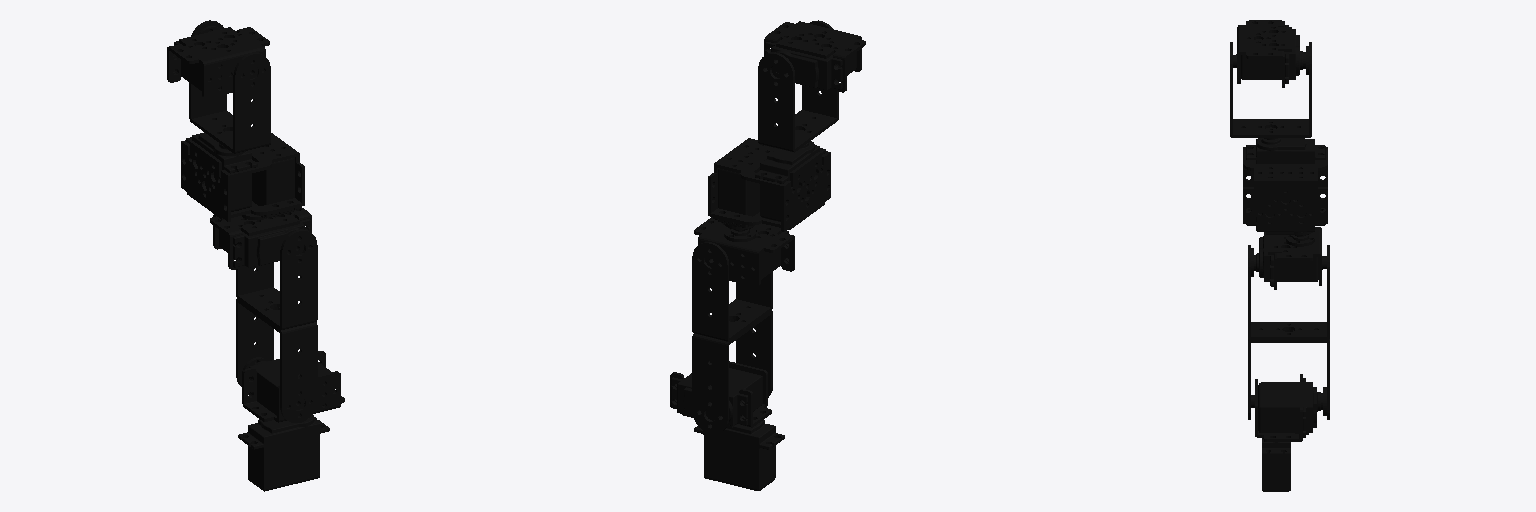
The robot description file, URDF, robot "robotic_arm_6_dof_description":
<?xml version="1.0" encoding="utf-8"?>
<!-- This URDF was automatically created by SolidWorks to URDF Exporter! Originally created by [author] ([email redacted]) 
     Commit Version: 1.6.0-4-g7f85cfe  Build Version: 1.6.7995.38578
     For more information, please see http://wiki.ros.org/sw_urdf_exporter -->
<robot
  name="robotic_arm_6_dof_description">
  
  <link name="world"/>
  <joint name="base_joint" type="fixed">
    <parent link="world"/>
    <child link="base_link"/>
    <origin rpy="0 0 0" xyz="0.0 0.0 0.17"/>
  </joint>

  <link
    name="base_link">
    <inertial>
      <origin
        xyz="0.0002062 5.7446E-07 0.020385"
        rpy="0 0 0" />
      <mass
        value="0.043211" />
      <inertia
        ixx="7.2852E-06"
        ixy="5.7658E-12"
        ixz="-1.761E-07"
        iyy="1.1902E-05"
        iyz="-2.8656E-10"
        izz="7.5015E-06" />
    </inertial>
    <visual>
      <origin
        xyz="0 0 0"
        rpy="0 0 0" />
      <geometry>
        <mesh
          filename="package://robotic_arm_6_dof_description/meshes/base_link.STL" />
      </geometry>
      <material
        name="">
        <color
          rgba="0.10196 0.10196 0.10196 1" />
      </material>
    </visual>
    <collision>
      <origin
        xyz="0 0 0"
        rpy="0 0 0" />
      <geometry>
        <mesh
          filename="package://robotic_arm_6_dof_description/meshes/base_link.STL" />
      </geometry>
    </collision>
  </link>
  <link
    name="Link1">
    <inertial>
      <origin
        xyz="0.0002958 0.016198 0.0052486"
        rpy="0 0 0" />
      <mass
        value="0.064163" />
      <inertia
        ixx="1.113E-05"
        ixy="1.098E-08"
        ixz="-1.268E-07"
        iyy="1.9471E-05"
        iyz="4.6747E-07"
        izz="1.3237E-05" />
    </inertial>
    <visual>
      <origin
        xyz="0 0 0"
        rpy="0 0 0" />
      <geometry>
        <mesh
          filename="package://robotic_arm_6_dof_description/meshes/Link1.STL" />
      </geometry>
      <material
        name="">
        <color
          rgba="0.10196 0.10196 0.10196 1" />
      </material>
    </visual>
    <collision>
      <origin
        xyz="0 0 0"
        rpy="0 0 0" />
      <geometry>
        <mesh
          filename="package://robotic_arm_6_dof_description/meshes/Link1.STL" />
      </geometry>
    </collision>
  </link>
  <joint
    name="Base_to_link1"
    type="revolute">
    <origin
      xyz="0.0101 0 0.0407"
      rpy="1.5708 0 3.1181" />
    <parent
      link="base_link" />
    <child
      link="Link1" />
    <axis
      xyz="0 1 0" />
    <limit
      lower="-1.5708"
      upper="1.5708"
      effort="1.177"
      velocity="8.0554" />
  </joint>
  <link
    name="Link2">
    <inertial>
      <origin
        xyz="0.047642 0.00932 5.3768E-06"
        rpy="0 0 0" />
      <mass
        value="0.05648" />
      <inertia
        ixx="3.3108E-05"
        ixy="3.0091E-20"
        ixz="5.5206E-21"
        iyy="2.3384E-05"
        iyz="-1.2174E-22"
        izz="5.0731E-05" />
    </inertial>
    <visual>
      <origin
        xyz="0 0 0"
        rpy="0 0 0" />
      <geometry>
        <mesh
          filename="package://robotic_arm_6_dof_description/meshes/Link2.STL" />
      </geometry>
      <material
        name="">
        <color
          rgba="0.10196 0.10196 0.10196 1" />
      </material>
    </visual>
    <collision>
      <origin
        xyz="0 0 0"
        rpy="0 0 0" />
      <geometry>
        <mesh
          filename="package://robotic_arm_6_dof_description/meshes/Link2.STL" />
      </geometry>
    </collision>
  </link>
  <joint
    name="Link1_to_link2"
    type="revolute">
    <origin
      xyz="0.010147 0.01859 -0.00023822"
      rpy="1.5943 0 1.5708" />
    <parent
      link="Link1" />
    <child
      link="Link2" />
    <axis
      xyz="0 0.99695 0.078035" />
    <limit
      lower="-1.5708"
      upper="1.5708"
      effort="1.177"
      velocity="8.0554" />
  </joint>
  <link
    name="Link3">
    <inertial>
      <origin
        xyz="0.0016081 -0.010795 -0.0093584"
        rpy="0 0 0" />
      <mass
        value="0.064286" />
      <inertia
        ixx="1.9431E-05"
        ixy="-4.6752E-07"
        ixz="3.0542E-08"
        iyy="1.3285E-05"
        iyz="-1.7782E-07"
        izz="1.1141E-05" />
    </inertial>
    <visual>
      <origin
        xyz="0 0 0"
        rpy="0 0 0" />
      <geometry>
        <mesh
          filename="package://robotic_arm_6_dof_description/meshes/Link3.STL" />
      </geometry>
      <material
        name="">
        <color
          rgba="0.10196 0.10196 0.10196 1" />
      </material>
    </visual>
    <collision>
      <origin
        xyz="0 0 0"
        rpy="0 0 0" />
      <geometry>
        <mesh
          filename="package://robotic_arm_6_dof_description/meshes/Link3.STL" />
      </geometry>
    </collision>
  </link>
  <joint
    name="Link2_to_link3"
    type="revolute">
    <origin
      xyz="0.1051 0 0"
      rpy="3.1416 -0.0036831 0" />
    <parent
      link="Link2" />
    <child
      link="Link3" />
    <axis
      xyz="0 -1 0" />
    <limit
      lower="-1.5708"
      upper="1.5708"
      effort="1.177"
      velocity="8.0554" />
  </joint>
  <link
    name="Link4">
    <inertial>
      <origin
        xyz="0.009832 -0.033824 -0.014755"
        rpy="0 0 0" />
      <mass
        value="0.12825" />
      <inertia
        ixx="3.8849E-05"
        ixy="3.5219E-07"
        ixz="-1.4557E-14"
        iyy="4.3643E-05"
        iyz="7.3088E-07"
        izz="4.1245E-05" />
    </inertial>
    <visual>
      <origin
        xyz="0 0 0"
        rpy="0 0 0" />
      <geometry>
        <mesh
          filename="package://robotic_arm_6_dof_description/meshes/Link4.STL" />
      </geometry>
      <material
        name="">
        <color
          rgba="0.10196 0.10196 0.10196 1" />
      </material>
    </visual>
    <collision>
      <origin
        xyz="0 0 0"
        rpy="0 0 0" />
      <geometry>
        <mesh
          filename="package://robotic_arm_6_dof_description/meshes/Link4.STL" />
      </geometry>
    </collision>
  </link>
  <joint
    name="Link3_to_link4"
    type="revolute">
    <origin
      xyz="0.012337 -0.01663 -0.010005"
      rpy="-0.0036831 0 1.5708" />
    <parent
      link="Link3" />
    <child
      link="Link4" />
    <axis
      xyz="0 -1 0" />
    <limit
      lower="-1.5708"
      upper="1.5708"
      effort="1.177"
      velocity="8.0554" />
  </joint>
  <link
    name="Link5">
    <inertial>
      <origin
        xyz="1.3878E-17 0.026917 2.7756E-17"
        rpy="0 0 0" />
      <mass
        value="0.029193" />
      <inertia
        ixx="2.4044E-05"
        ixy="-1.0846E-21"
        ixz="4.0741E-06"
        iyy="1.662E-05"
        iyz="-5.8432E-21"
        izz="1.3032E-05" />
    </inertial>
    <visual>
      <origin
        xyz="0 0 0"
        rpy="0 0 0" />
      <geometry>
        <mesh
          filename="package://robotic_arm_6_dof_description/meshes/Link5.STL" />
      </geometry>
      <material
        name="">
        <color
          rgba="0.10196 0.10196 0.10196 1" />
      </material>
    </visual>
    <collision>
      <origin
        xyz="0 0 0"
        rpy="0 0 0" />
      <geometry>
        <mesh
          filename="package://robotic_arm_6_dof_description/meshes/Link5.STL" />
      </geometry>
    </collision>
  </link>
  <joint
    name="Link4_to_link5"
    type="revolute">
    <origin
      xyz="0.0202 -0.061231 -0.0302"
      rpy="-3.1416 1.2523 0" />
    <parent
      link="Link4" />
    <child
      link="Link5" />
    <axis
      xyz="0 1 0" />
    <limit
      lower="-1.5708"
      upper="1.5708"
      effort="1.177"
      velocity="8.0554" />
  </joint>
  <link
    name="Link6">
    <inertial>
      <origin
        xyz="0.0016221 -0.0021085 0.0091189"
        rpy="0 0 0" />
      <mass
        value="0.06585" />
      <inertia
        ixx="1.9439E-05"
        ixy="-4.6583E-07"
        ixz="-8.2145E-08"
        iyy="1.3292E-05"
        iyz="1.8072E-07"
        izz="1.115E-05" />
    </inertial>
    <visual>
      <origin
        xyz="0 0 0"
        rpy="0 0 0" />
      <geometry>
        <mesh
          filename="package://robotic_arm_6_dof_description/meshes/Link6.STL" />
      </geometry>
      <material
        name="">
        <color
          rgba="0.10196 0.10196 0.10196 1" />
      </material>
    </visual>
    <collision>
      <origin
        xyz="0 0 0"
        rpy="0 0 0" />
      <geometry>
        <mesh
          filename="package://robotic_arm_6_dof_description/meshes/Link6.STL" />
      </geometry>
    </collision>
  </link>
  <joint
    name="Link5_to_link6"
    type="revolute">
    <origin
      xyz="0 0.0608 0"
      rpy="1.2523 -0.0031031 1.5614" />
    <parent
      link="Link5" />
    <child
      link="Link6" />
    <axis
      xyz="0 1 0" />
    <limit
      lower="-1.5708"
      upper="1.5708"
      effort="1.177"
      velocity="8.0554" />
  </joint>

  <transmission name="Base_to_link1_trans">
    <type>transmission_interface/SimpleTransmission</type>
    <joint name="Base_to_link1">
    <hardwareInterface>hardware_interface/PositionJointInterface</hardwareInterface>
    </joint>
    <actuator name="Link1_motor">
    <hardwareInterface>hardware_interface/PositionJointInterface</hardwareInterface>
    <mechanicalReduction>1</mechanicalReduction>
    </actuator>
  </transmission>

  <transmission name="Link1_to_link2_trans">
    <type>transmission_interface/SimpleTransmission</type>
    <joint name="Link1_to_link2">
    <hardwareInterface>hardware_interface/PositionJointInterface</hardwareInterface>
    </joint>
    <actuator name="Link2_motor">
    <hardwareInterface>hardware_interface/PositionJointInterface</hardwareInterface>
    <mechanicalReduction>1</mechanicalReduction>
    </actuator>
  </transmission>

  <transmission name="Link2_to_link3_trans">
    <type>transmission_interface/SimpleTransmission</type>
    <joint name="Link2_to_link3">
    <hardwareInterface>hardware_interface/PositionJointInterface</hardwareInterface>
    </joint>
    <actuator name="Link3_motor">
    <hardwareInterface>hardware_interface/PositionJointInterface</hardwareInterface>
    <mechanicalReduction>1</mechanicalReduction>
    </actuator>
  </transmission>

  <transmission name="Link3_to_link4_trans">
    <type>transmission_interface/SimpleTransmission</type>
    <joint name="Link3_to_link4">
    <hardwareInterface>hardware_interface/PositionJointInterface</hardwareInterface>
    </joint>
    <actuator name="Link4_motor">
    <hardwareInterface>hardware_interface/PositionJointInterface</hardwareInterface>
    <mechanicalReduction>1</mechanicalReduction>
    </actuator>
  </transmission>

  <transmission name="Link4_to_link5_trans">
    <type>transmission_interface/SimpleTransmission</type>
    <joint name="Link4_to_link5">
    <hardwareInterface>hardware_interface/PositionJointInterface</hardwareInterface>
    </joint>
    <actuator name="Link5_motor">
    <hardwareInterface>hardware_interface/PositionJointInterface</hardwareInterface>
    <mechanicalReduction>1</mechanicalReduction>
    </actuator>
  </transmission>

  <transmission name="Link5_to_link6_trans">
    <type>transmission_interface/SimpleTransmission</type>
    <joint name="Link5_to_link6">
    <hardwareInterface>hardware_interface/PositionJointInterface</hardwareInterface>
    </joint>
    <actuator name="Link6_motor">
    <hardwareInterface>hardware_interface/PositionJointInterface</hardwareInterface>
    <mechanicalReduction>1</mechanicalReduction>
    </actuator>
  </transmission>

  <gazebo>
    <plugin name="control"
    filename="libgazebo_ros_control.so">
    <robotNamespace>/</robotNamespace>
    </plugin>
  </gazebo>

  <gazebo reference="base_link">
    <selfCollide>true</selfCollide>
  </gazebo>

  <gazebo reference="Link_2">
    <selfCollide>true</selfCollide>
  </gazebo>

  <gazebo reference="Link_3">
    <selfCollide>true</selfCollide>
  </gazebo>

  <gazebo reference="Link_4">
    <selfCollide>true</selfCollide>
  </gazebo>

  <gazebo reference="Link_5">
    <selfCollide>true</selfCollide>
  </gazebo>

  <gazebo reference="Link_6">
    <selfCollide>true</selfCollide>
  </gazebo>

</robot>

--- What the picture shows (computed from the rendered views, not written in the file) ---
Views: 3 orthographic renders of the robot side by side, from view 1: azimuth 30°, elevation 25°; view 2: azimuth 150°, elevation 25°; view 3: azimuth 270°, elevation 25°.
Robot: robotic_arm_6_dof_description — 8 links, 7 joints (6 revolute, 1 fixed); root link world; default pose: all joints at 0.
Visible links, largest first — view 1: Link2, Link4, Link5, base_link, Link6, Link3, Link1; view 2: Link2, Link4, Link5, Link6, base_link, Link3, Link1; view 3: Link4, Link6, Link1, Link3, Link2, Link5, base_link.
Link boxes in pixels (x1=…): Link2: x1=236, y1=229, x2=317, y2=422; Link4: x1=181, y1=132, x2=304, y2=221; Link5: x1=189, y1=20, x2=270, y2=153; base_link: x1=238, y1=414, x2=329, y2=491; Link6: x1=167, y1=26, x2=269, y2=98; Link3: x1=210, y1=207, x2=311, y2=269; Link1: x1=242, y1=351, x2=344, y2=422; Link2: x1=692, y1=242, x2=772, y2=433; Link4: x1=708, y1=138, x2=830, y2=241; Link5: x1=758, y1=20, x2=838, y2=152; Link6: x1=764, y1=21, x2=865, y2=92; base_link: x1=694, y1=420, x2=784, y2=490; Link3: x1=694, y1=217, x2=794, y2=286; Link1: x1=670, y1=361, x2=771, y2=427; Link4: x1=1243, y1=138, x2=1327, y2=246; Link6: x1=1233, y1=20, x2=1308, y2=87; Link1: x1=1255, y1=374, x2=1320, y2=441; Link3: x1=1251, y1=227, x2=1326, y2=289; Link2: x1=1248, y1=245, x2=1329, y2=419; Link5: x1=1230, y1=42, x2=1311, y2=139; base_link: x1=1262, y1=438, x2=1290, y2=491.
Bounding box of the posed robot: 0.1185 × 0.0686 × 0.3113 m (x, y, z).
Meshes: 7 distinct files referenced, 7 mesh visuals loaded (7 binary STL).